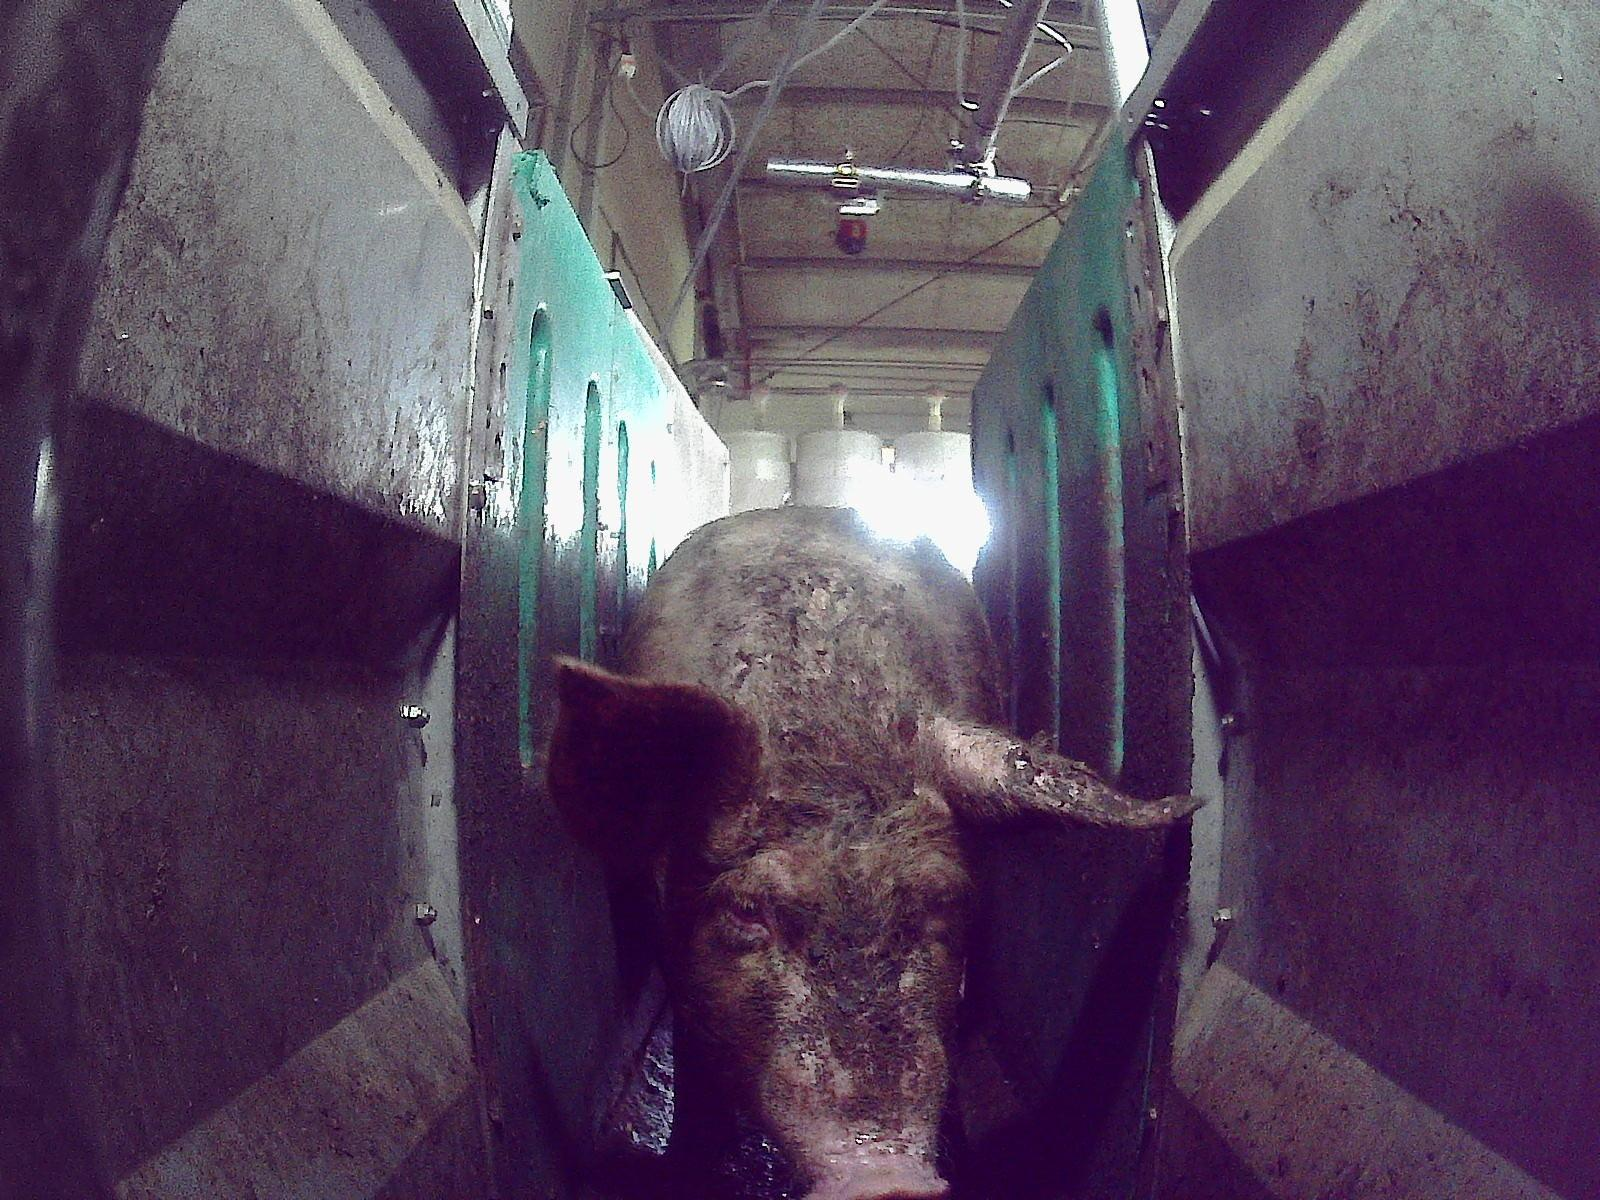Face: (679, 717, 978, 1199)
